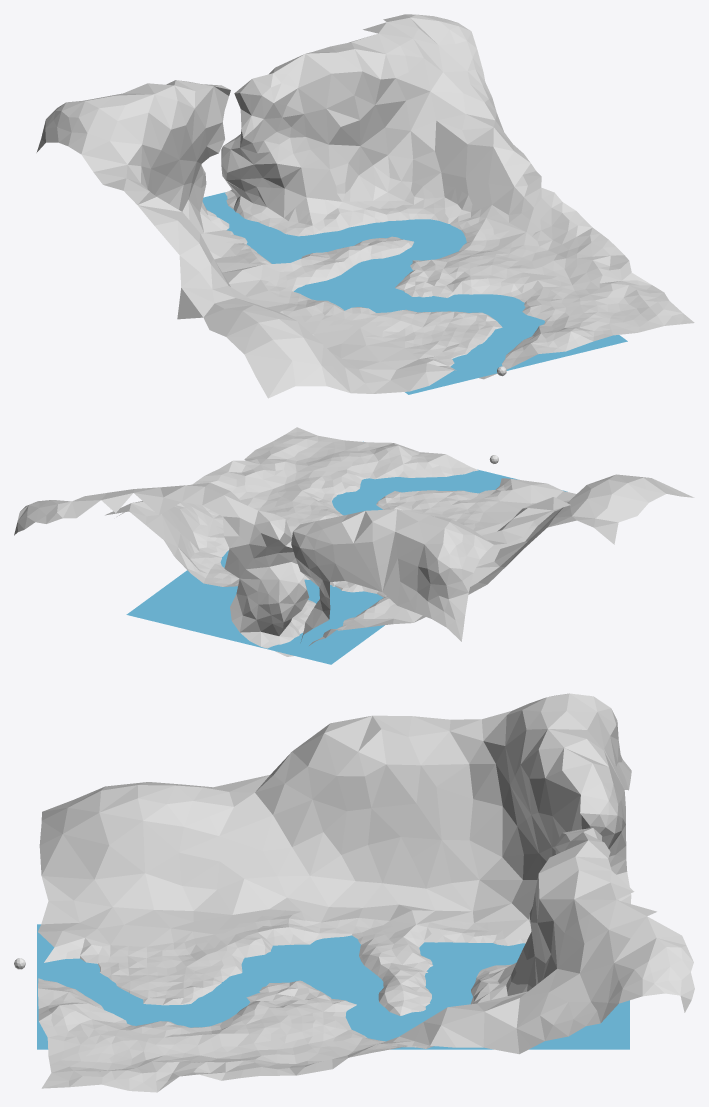
File: snowy_verCol.glb
3 views of the same model, one above another, from view 1: azimuth 30°, elevation 25°; view 2: azimuth 150°, elevation 25°; view 3: azimuth 270°, elevation 25° (orthographic). The views are drawn at different scales.
Visible parts, largest first — view 1: Terrain, River; view 2: Terrain, River; view 3: Terrain, River.
Boxes of the visible parts, x1,y1,x2,y2 form: Terrain: (36,14,694,398); River: (202,192,627,394); Terrain: (14,427,694,656); River: (126,441,567,664); Terrain: (38,693,694,1092); River: (37,924,629,1049).
Size of the model in its own units: 105 by 36.62 by 115.
